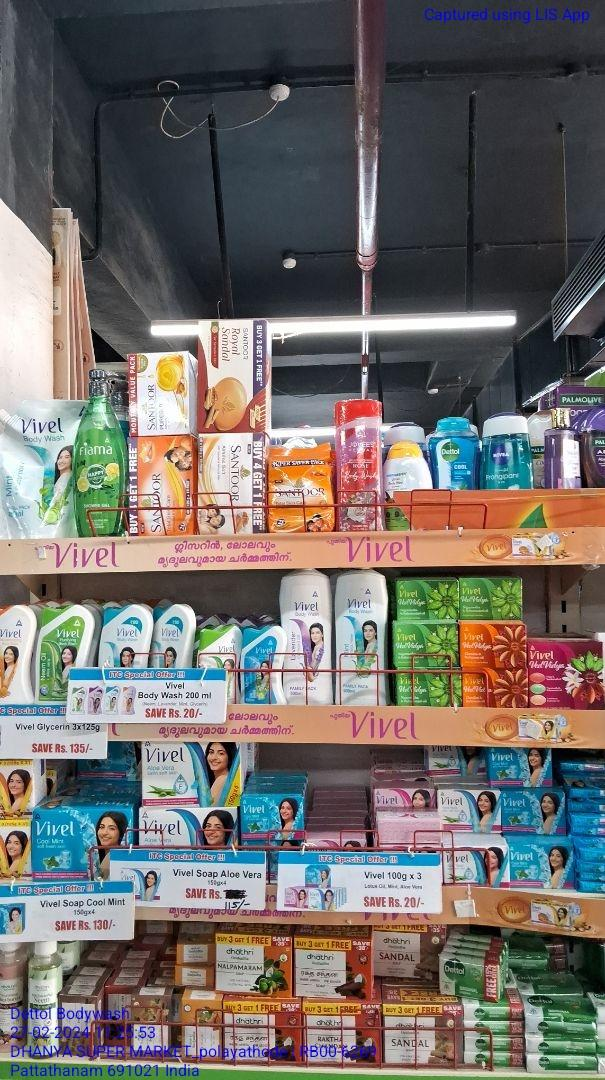Dettol_Bodywash_Cool: (431, 412, 476, 490)
Nivea_Shower_Gel_Frangipani_and_Oil_250ML: (482, 411, 531, 495)
